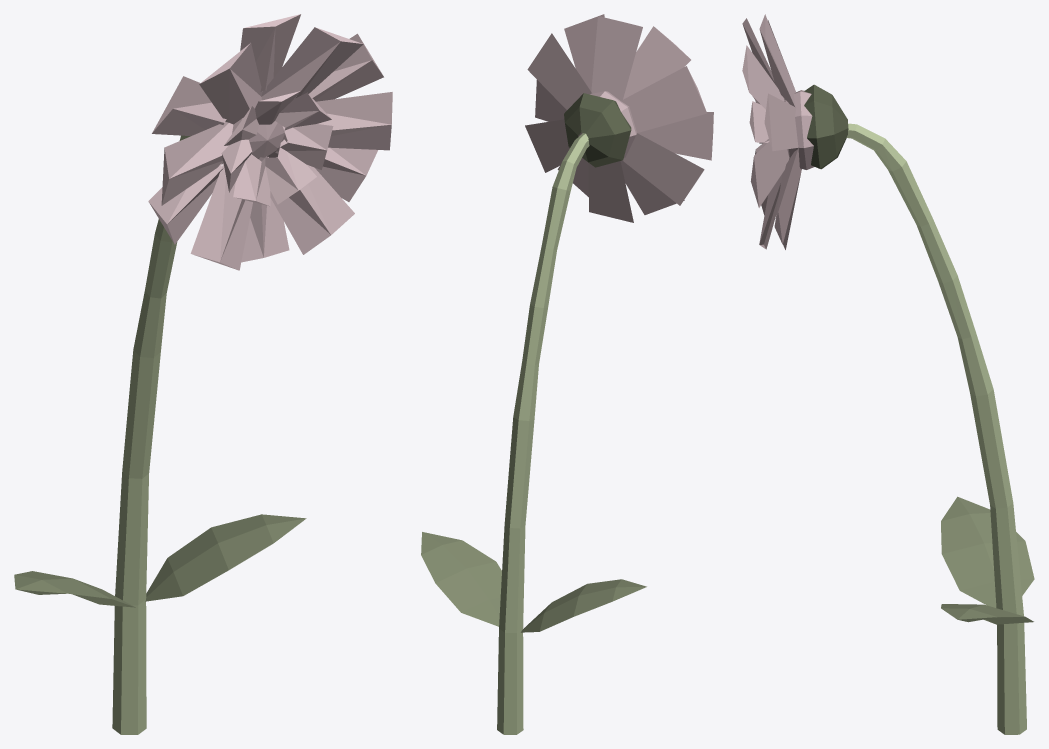
Rendered from wildflower-68d3a1.glb.
3 views of the same model, side by side, from view 1: azimuth 30°, elevation 25°; view 2: azimuth 150°, elevation 25°; view 3: azimuth 270°, elevation 25° (orthographic). The views are drawn at different scales.
Parts seen in each view (by area): view 1: plant; view 2: plant; view 3: plant.
Boxes of the visible parts, bbox=[...] form: plant: bbox=[14, 14, 392, 734]; plant: bbox=[421, 14, 713, 734]; plant: bbox=[742, 14, 1034, 734].
Size of the model in its own units: 0.1499 by 0.3991 by 0.1503.
